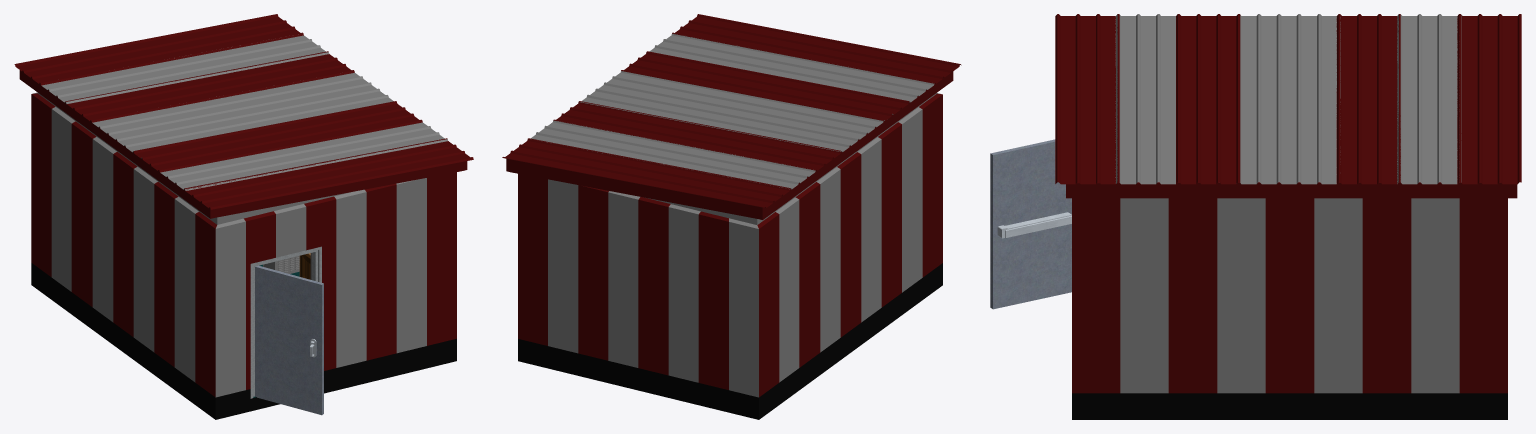
Rendered from shelter (1).fbx.
The picture shows the model from 3 angles, left to right: view 1: azimuth 30°, elevation 25°; view 2: azimuth 150°, elevation 25°; view 3: azimuth 270°, elevation 25°; orthographic projection. The views are drawn at different scales.
Visible parts, largest first — view 1: GDLM100_A07_Crimson_Depth, GDLM6_Default, GDLM74_Metal_Brushed_467, GDLM102_M09_Shadow_Night, GDLM73_Metal_Rough_463, GDLM9_Color M00; view 2: GDLM100_A07_Crimson_Depth, GDLM6_Default, GDLM102_M09_Shadow_Night; view 3: GDLM100_A07_Crimson_Depth, GDLM6_Default, GDLM102_M09_Shadow_Night, GDLM74_Metal_Brushed_467, GDLM76_[Metal_Aluminum_Anodi.
Boxes of the visible parts, <box> form: GDLM100_A07_Crimson_Depth: <box>14,14,473,397</box>; GDLM6_Default: <box>32,34,447,397</box>; GDLM74_Metal_Brushed_467: <box>255,265,323,415</box>; GDLM102_M09_Shadow_Night: <box>31,263,456,419</box>; GDLM73_Metal_Rough_463: <box>250,246,321,398</box>; GDLM9_Color M00: <box>263,256,299,273</box>; GDLM100_A07_Crimson_Depth: <box>502,14,961,397</box>; GDLM6_Default: <box>531,33,941,397</box>; GDLM102_M09_Shadow_Night: <box>518,263,942,419</box>; GDLM100_A07_Crimson_Depth: <box>1055,14,1521,393</box>; GDLM6_Default: <box>1115,14,1461,393</box>; GDLM102_M09_Shadow_Night: <box>1072,393,1507,419</box>; GDLM74_Metal_Brushed_467: <box>990,139,1071,309</box>; GDLM76_[Metal_Aluminum_Anodi: <box>997,212,1071,238</box>.
Bounding box in the file's own units: 4.29 × 3.43 × 6.34.
Materials: 102 (60 with a texture image).
